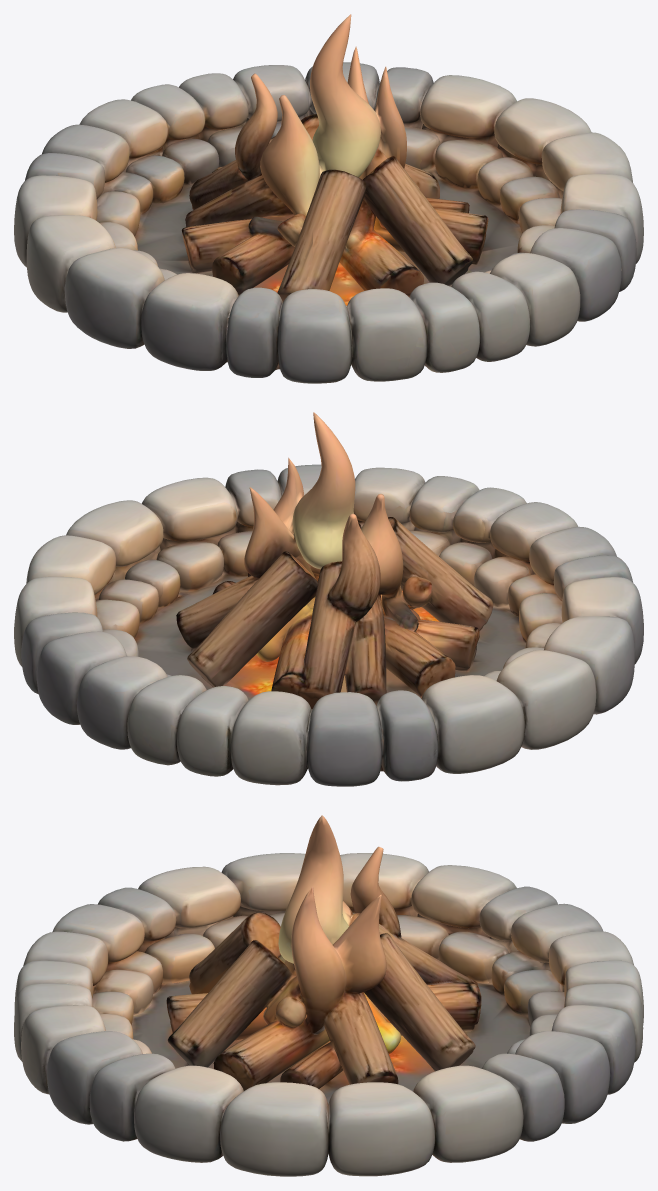
The model's file is stone-fire-pit.glb.
The picture shows the model from 3 angles, top to bottom: view 1: azimuth 30°, elevation 25°; view 2: azimuth 150°, elevation 25°; view 3: azimuth 270°, elevation 25°; orthographic projection.
Visible parts, largest first — view 1: node_0; view 2: node_0; view 3: node_0.
Boxes of the visible parts, <box> form: node_0: <box>14,14,643,383</box>; node_0: <box>14,412,643,786</box>; node_0: <box>14,815,643,1176</box>.
Size of the model in its own units: 1.11 by 0.4717 by 1.11.
Materials: 1 (1 with a texture image).
